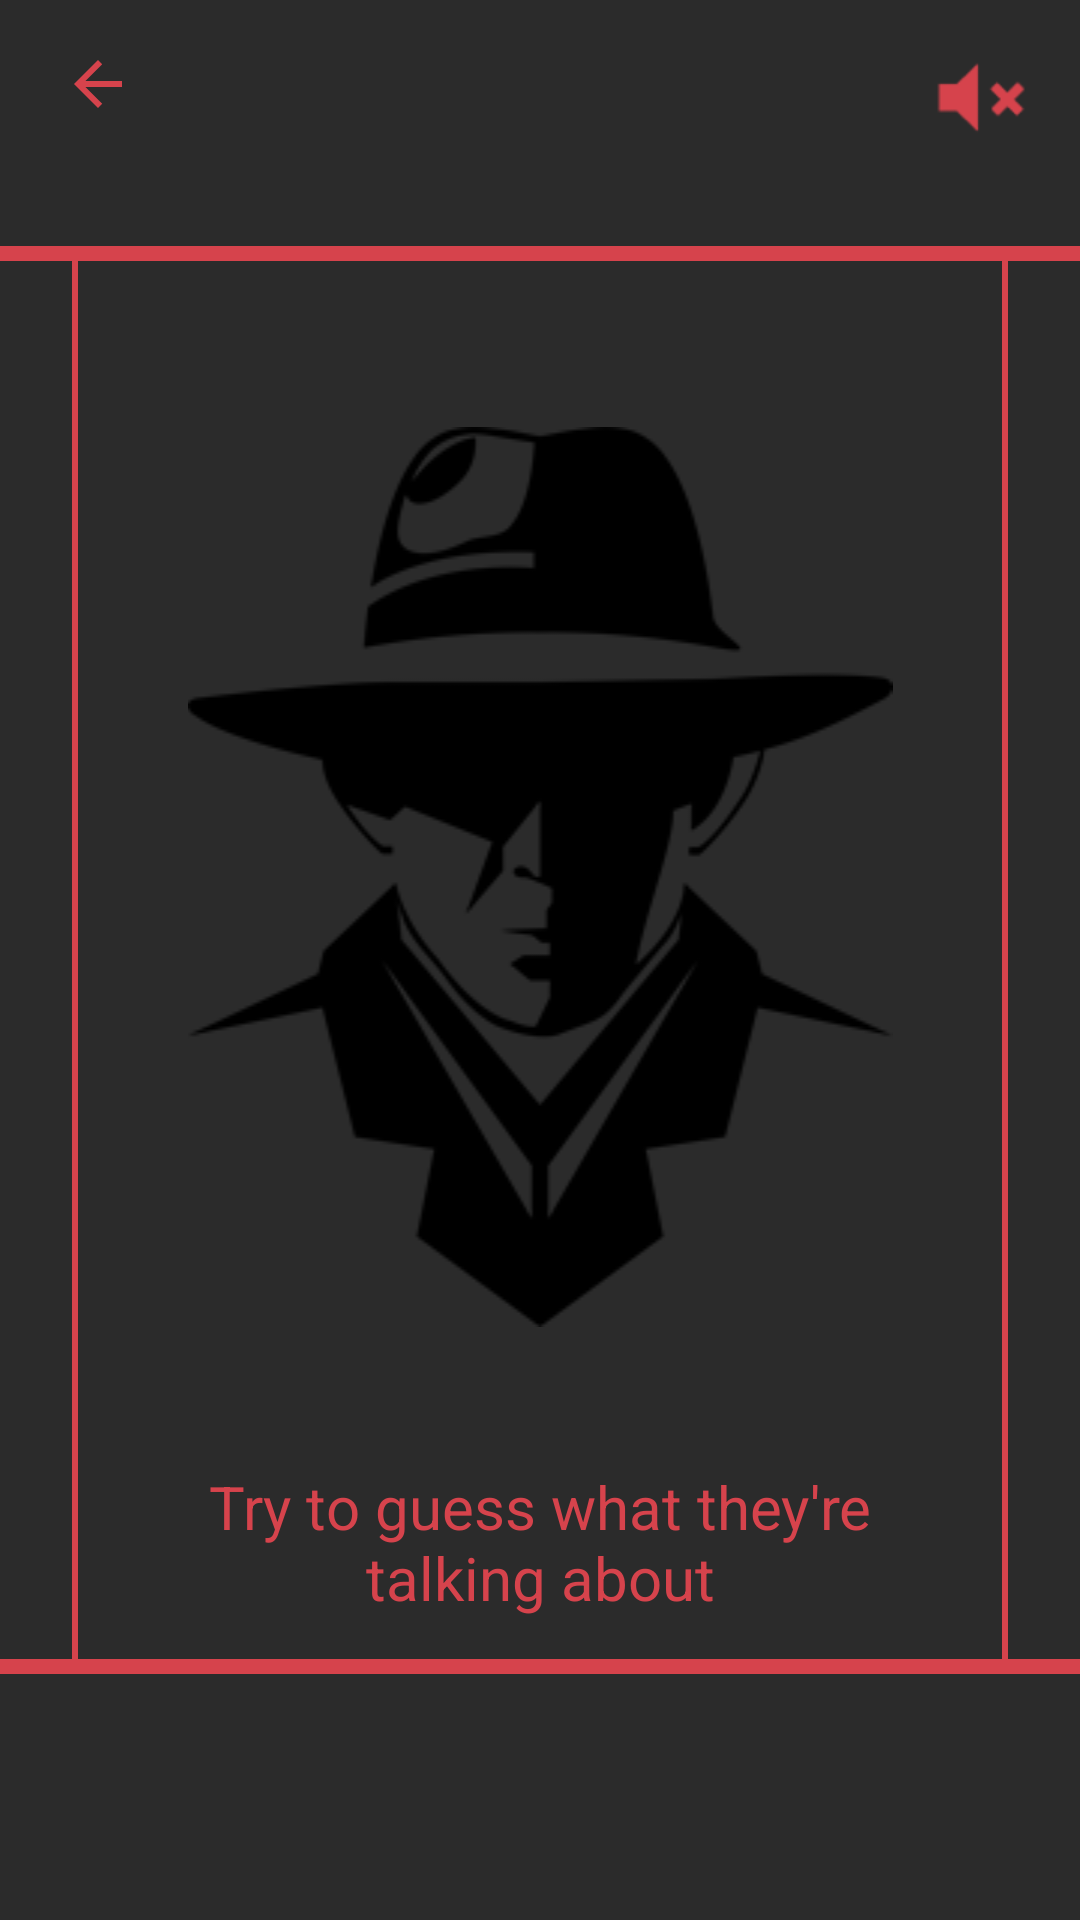

Screen size 1080px x 1920px. Icon name, then its center in pixels as [x,y]:
lock silent mode: [981,97]
